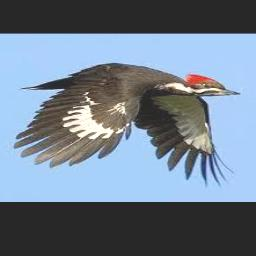Woodpecker: (14, 63, 240, 189)
